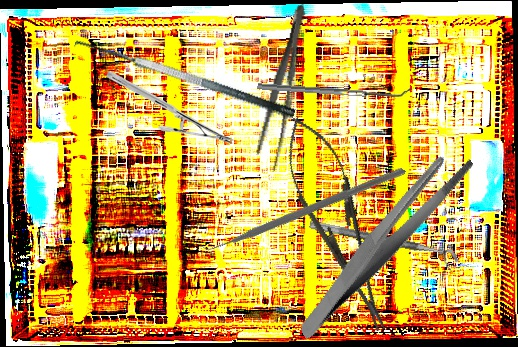Chopper: (192, 93, 407, 319)
Dressing Forceps: (262, 143, 505, 341), (252, 1, 315, 174)
Fixation Ring: (306, 219, 461, 273)
Needle Holder: (269, 107, 406, 341), (106, 72, 234, 144)
Spatula Surgical: (69, 28, 297, 138), (257, 77, 411, 100)
